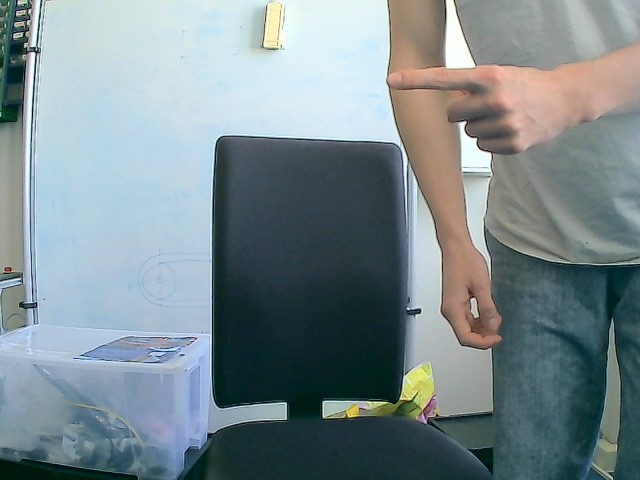no_gesture: (437, 245, 511, 352)
right: (385, 62, 578, 156)
